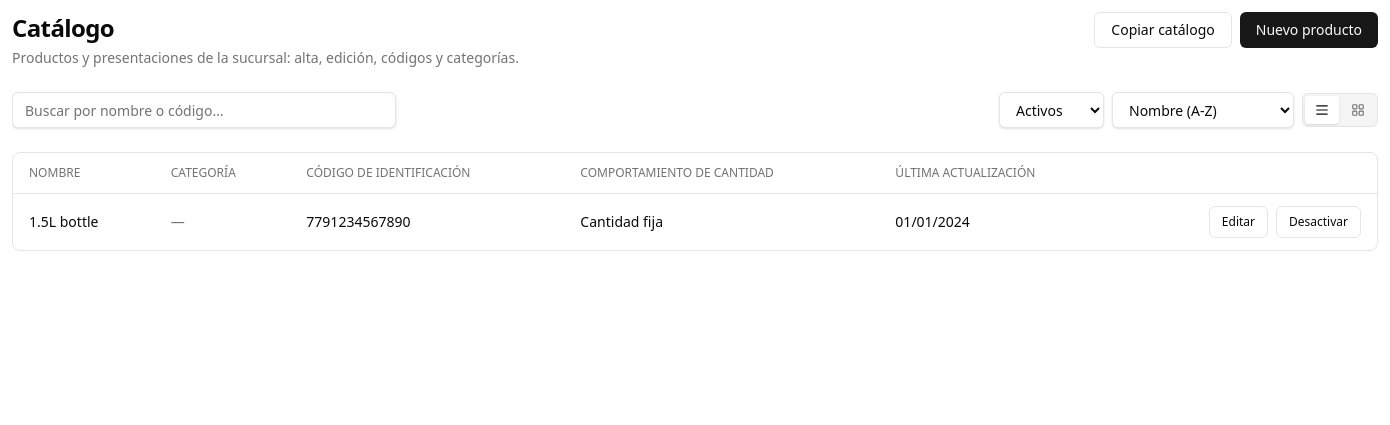
CatalogScreen — copy catalog to another branch › returns to the catalog list from the copy page
The image size is (1390, 425).
Expected: the text "1.5L bottle" is shown, [29,212,98,232]
Click the button "Copiar catálogo" at (1163, 30), box [1094,12,1232,48]
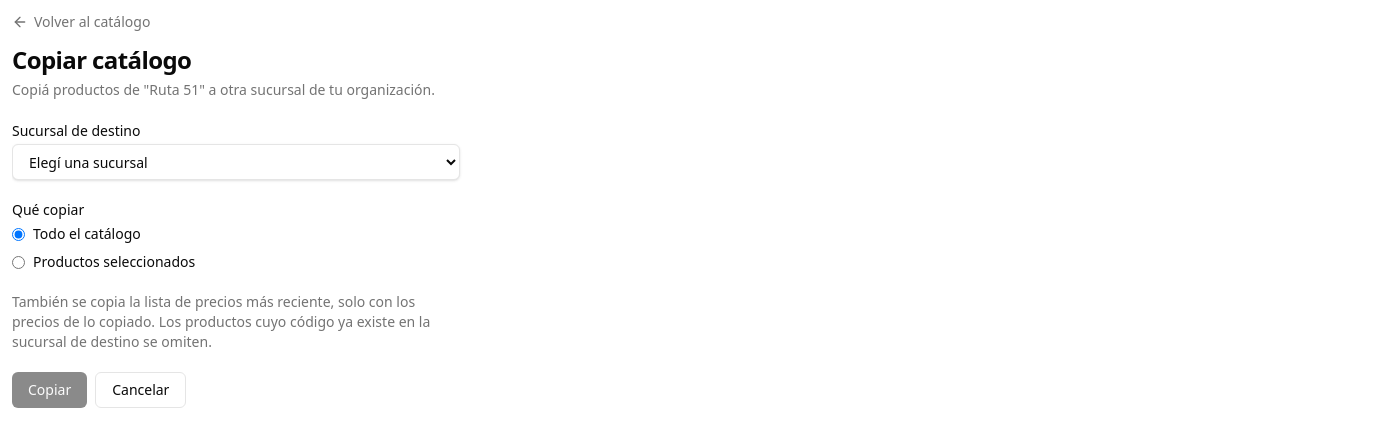
Click the button "Volver al catálogo" at (81, 22), box [12,12,150,32]
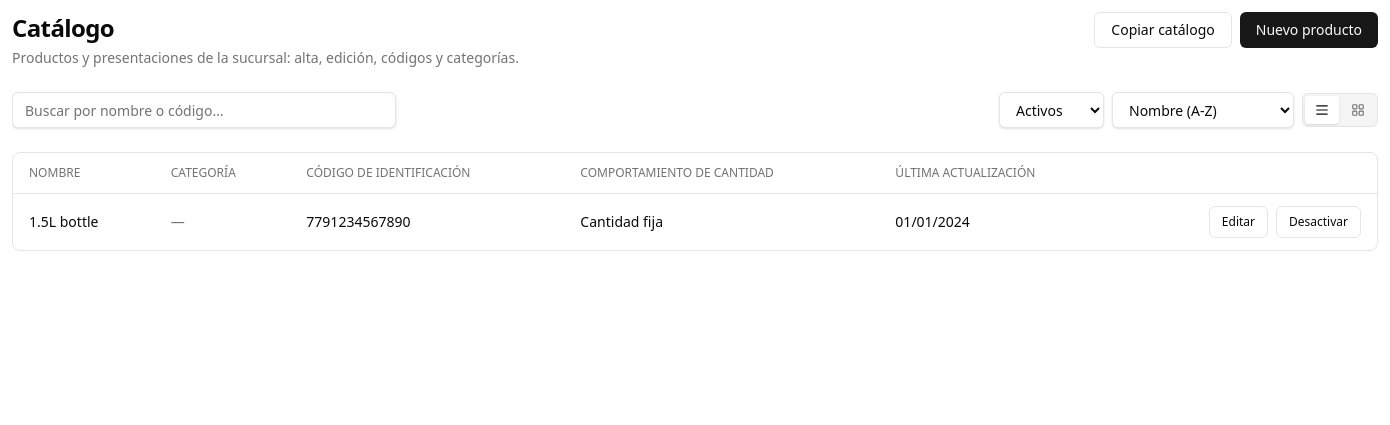
Now the text "1.5L bottle" is shown, box [29,212,98,232]
